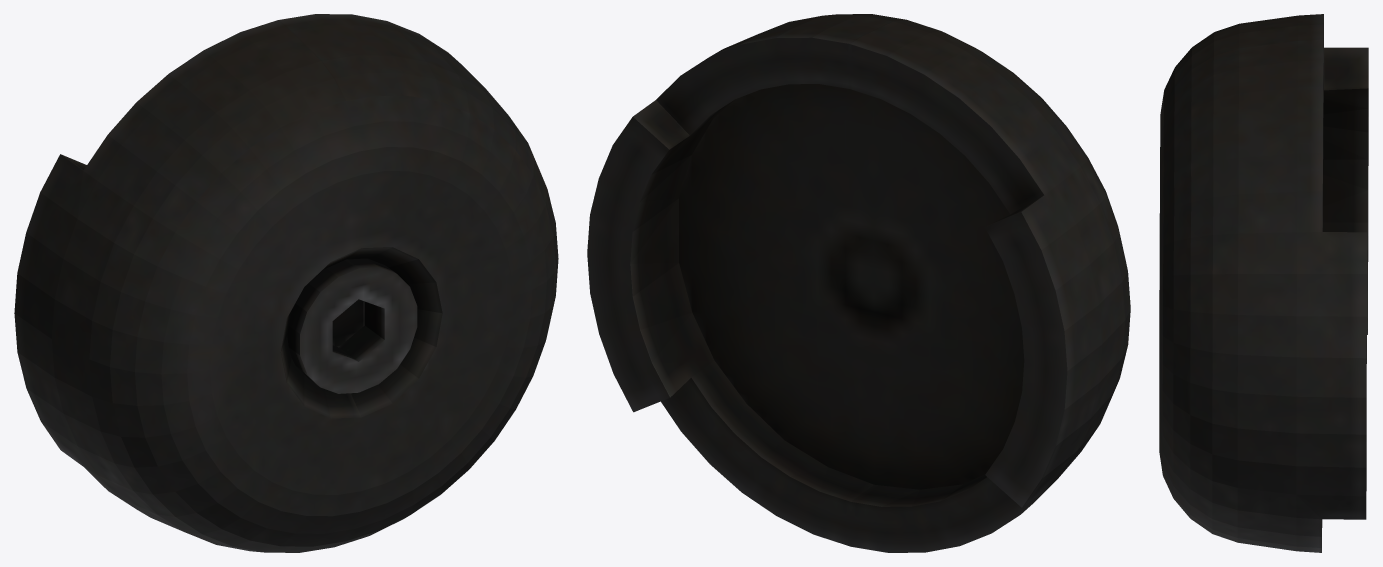
3 renders of one model, left to right at view 1: azimuth 30°, elevation 25°; view 2: azimuth 150°, elevation 25°; view 3: azimuth 270°, elevation 25°, orthographic. The views are drawn at different scales.
Parts seen in each view (by area): view 1: TW_5bfe86bd0db83400232fe959_PZ_Import; view 2: TW_5bfe86bd0db83400232fe959_PZ_Import; view 3: TW_5bfe86bd0db83400232fe959_PZ_Import.
Boxes of the visible parts, <box> form: TW_5bfe86bd0db83400232fe959_PZ_Import: <box>14,14,558,552</box>; TW_5bfe86bd0db83400232fe959_PZ_Import: <box>587,14,1130,552</box>; TW_5bfe86bd0db83400232fe959_PZ_Import: <box>1159,14,1368,552</box>.
Bounding box in the file's own units: 0.021 × 0.00814 × 0.0209.
Materials: 1 (1 with a texture image).
